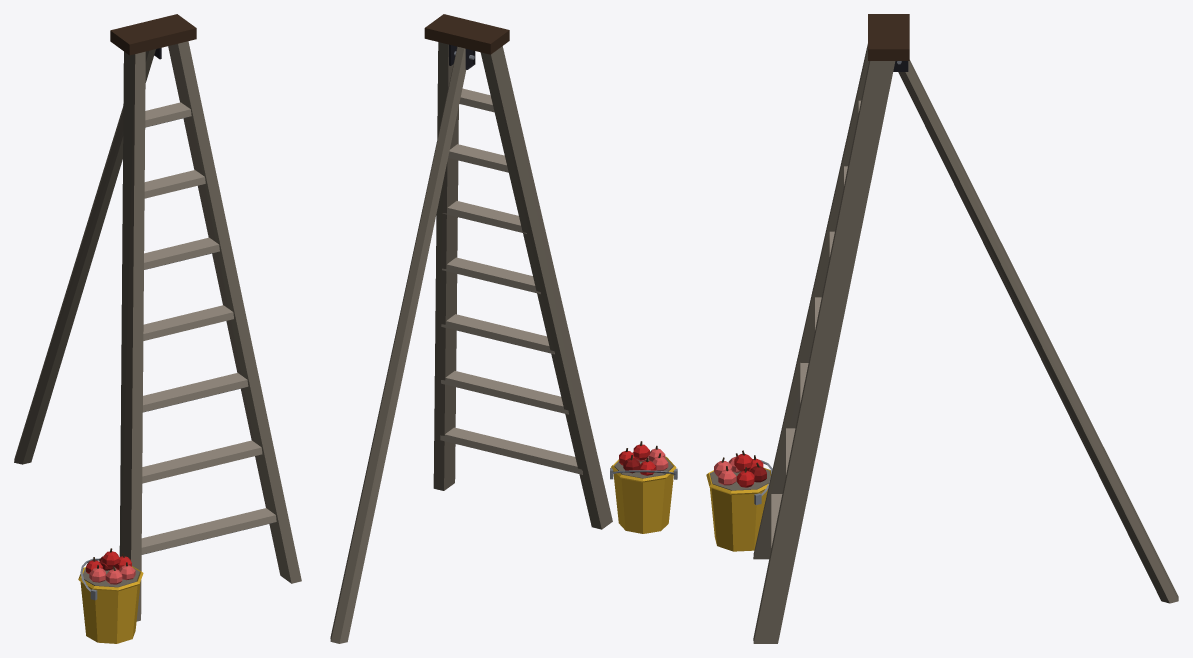
3 renders of one model, left to right at view 1: azimuth 30°, elevation 25°; view 2: azimuth 150°, elevation 25°; view 3: azimuth 270°, elevation 25°, orthographic. The views are drawn at different scales.
Visible parts, largest first — view 1: rails, treads_russet, pole, pail_gold, top_cap, apples_apple_red_light, apples_apple_red; view 2: rails, treads_russet, pole, pail_gold, top_cap, apples_apple_red; view 3: rails, pole, pail_gold, top_cap, treads_russet.
Part boxes in pixels (x1,y1,x2,y2): rails: (119,41,301,621); treads_russet: (141,102,276,554); pole: (14,49,155,464); pail_gold: (78,566,143,643); top_cap: (110,14,196,55); apples_apple_red_light: (89,565,135,584); apples_apple_red: (86,551,131,573); rails: (433,42,612,529); treads_russet: (440,88,582,474); pole: (330,46,466,643); pail_gold: (611,456,676,533); top_cap: (424,14,509,54); apples_apple_red: (619,444,655,475); rails: (753,44,895,643); pole: (898,60,1178,603); pail_gold: (706,468,771,551); top_cap: (868,14,909,60); treads_russet: (771,100,860,547).
Bounding box in the file's own units: 1.07 × 2.4 × 1.81.
